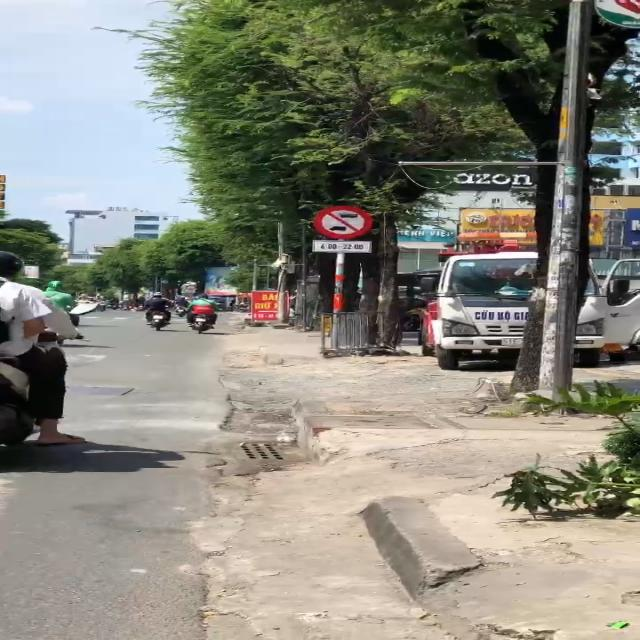Bien bao cam xe oto khach va xe oto tai: (310, 202, 377, 240)
